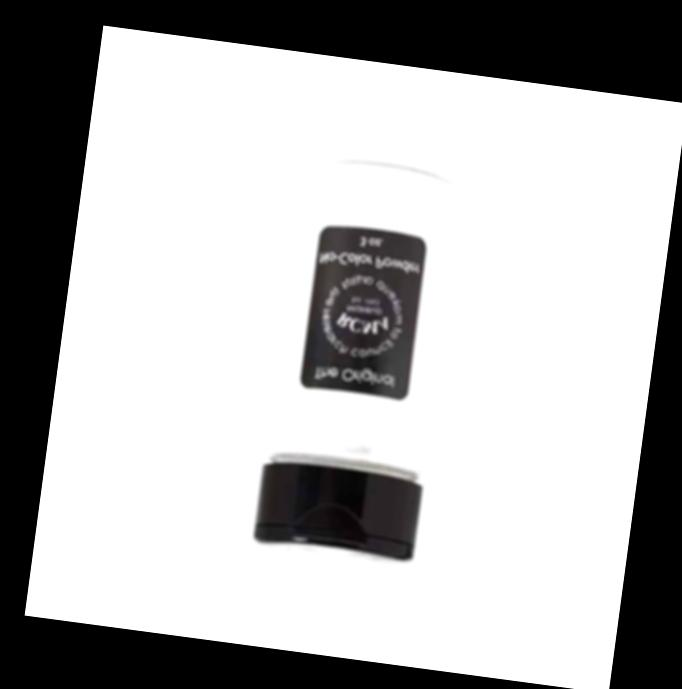cosmetic: (245, 157, 472, 566)
